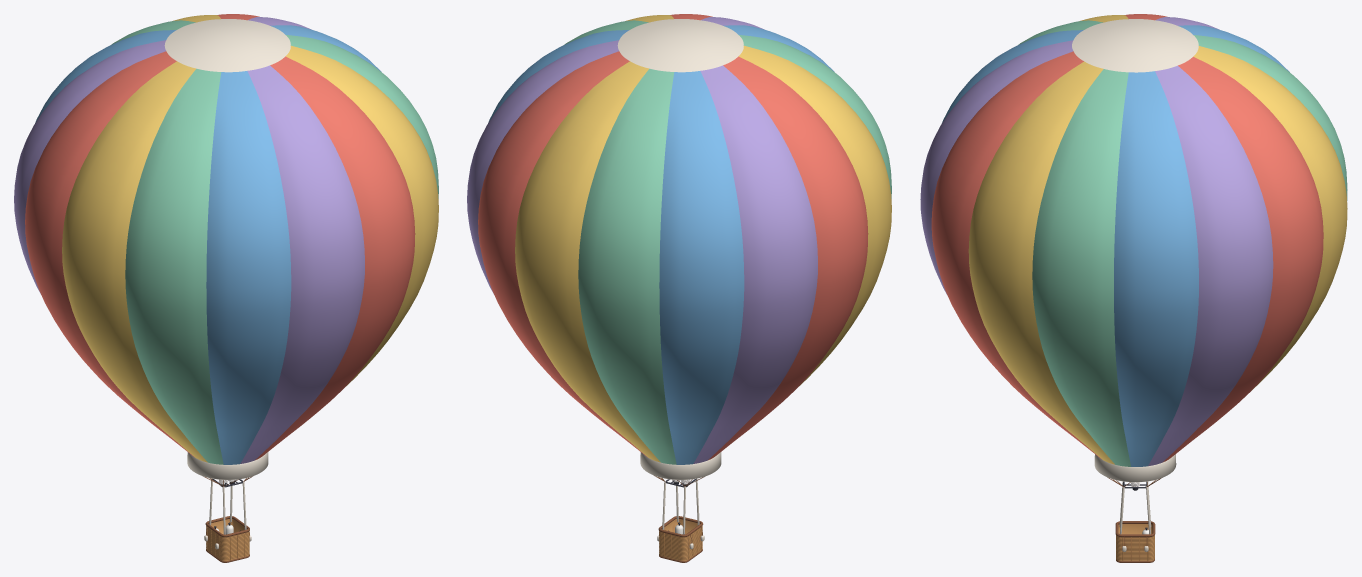
File: hot-air-balloon.glb
The picture shows the model from 3 angles, left to right: view 1: azimuth 30°, elevation 25°; view 2: azimuth 150°, elevation 25°; view 3: azimuth 270°, elevation 25°; orthographic projection.
Parts seen in each view (by area): view 1: hot-air-balloon_envelope, hot-air-balloon_body; view 2: hot-air-balloon_envelope, hot-air-balloon_body; view 3: hot-air-balloon_envelope, hot-air-balloon_body.
Part boxes in pixels (x1,y1,x2,y2): hot-air-balloon_envelope: (14, 14, 438, 479); hot-air-balloon_body: (203, 476, 252, 562); hot-air-balloon_envelope: (467, 14, 891, 479); hot-air-balloon_body: (654, 475, 704, 562); hot-air-balloon_envelope: (920, 14, 1347, 482); hot-air-balloon_body: (1107, 477, 1161, 562).
Bounding box in the file's own units: 15.55 × 20.8 × 15.5.
8 materials, 1 textured.
